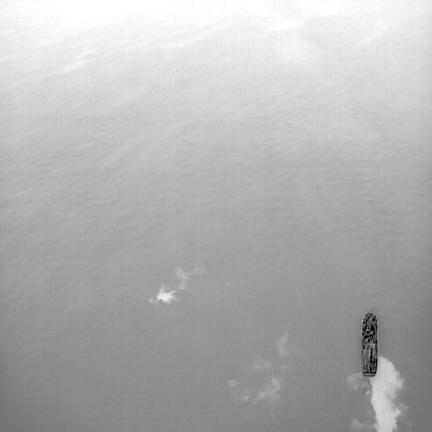flukeprints: (149, 267, 205, 304)
